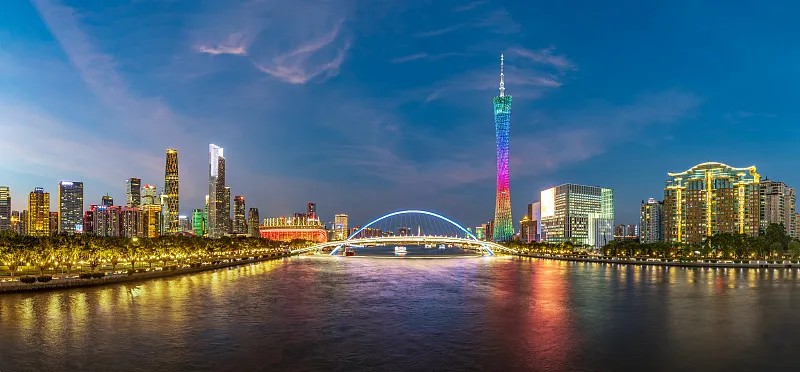Canton: (492, 54, 516, 243)
